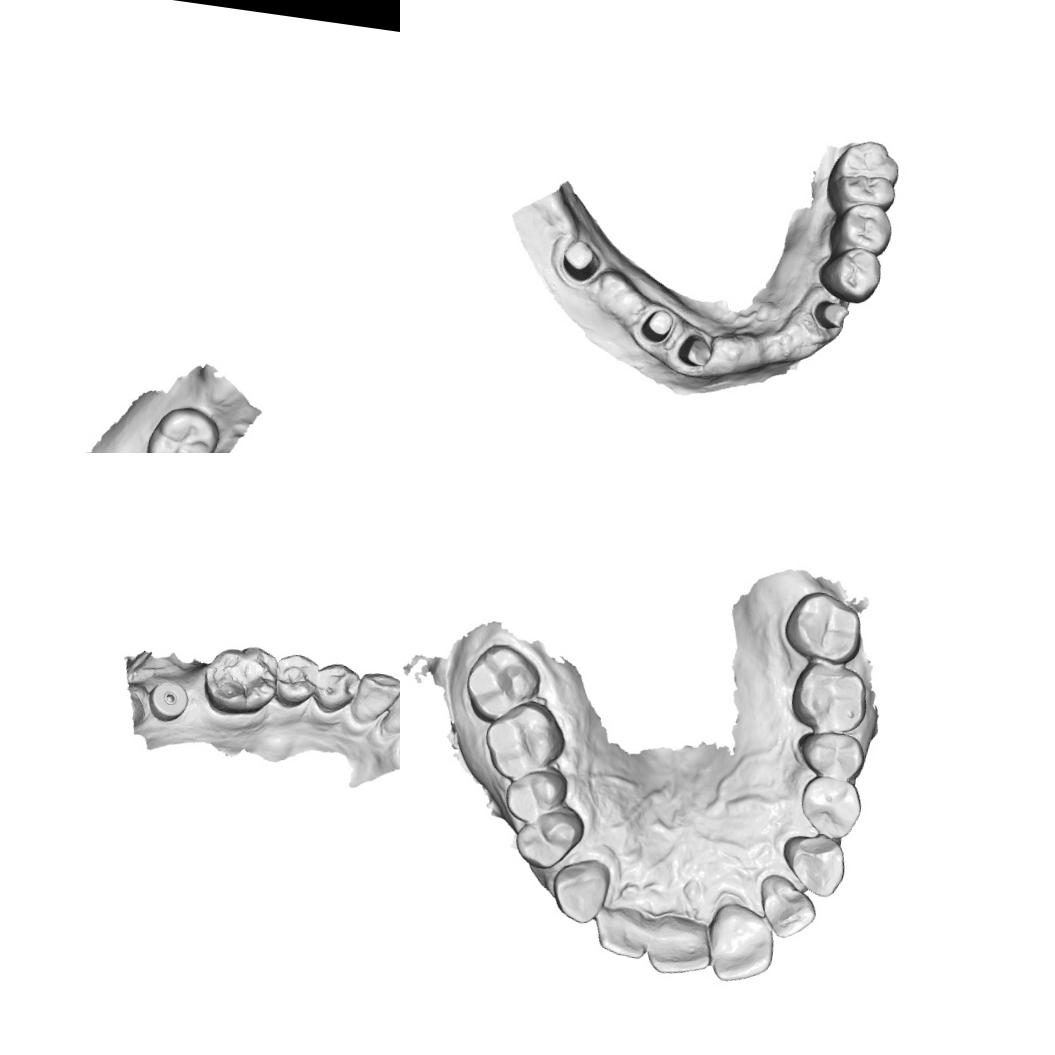abutment: (553, 235, 610, 292), (636, 303, 680, 349), (674, 330, 718, 371), (809, 297, 853, 333)
canine: (776, 828, 850, 900), (548, 854, 614, 928), (349, 668, 400, 729)
implant: (145, 678, 192, 726)
incisor: (701, 900, 779, 989), (643, 911, 717, 981), (752, 872, 820, 942), (593, 903, 652, 960), (379, 679, 400, 741)
molar: (479, 694, 570, 788), (460, 639, 546, 730), (198, 638, 282, 722), (780, 587, 868, 667), (822, 135, 903, 221), (786, 658, 873, 736), (140, 399, 224, 453)
premolar: (511, 800, 587, 875), (795, 772, 866, 842), (814, 242, 885, 306), (826, 197, 897, 261), (502, 762, 570, 827), (793, 727, 869, 784), (271, 650, 324, 712), (312, 660, 362, 718)
